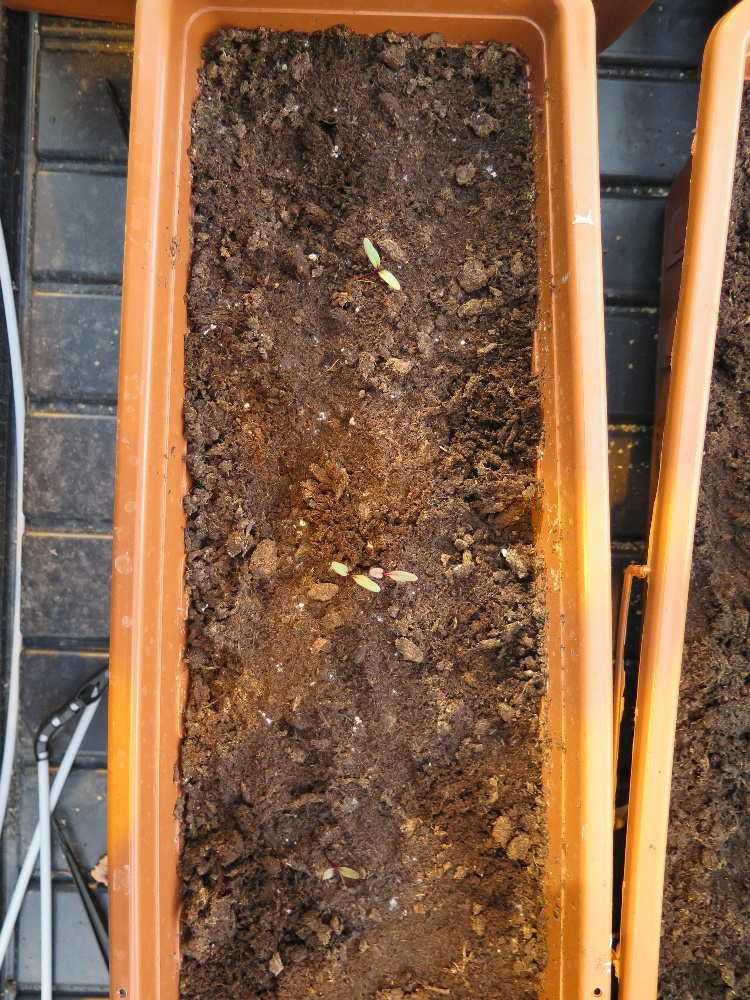crop: (324, 557, 384, 599), (362, 233, 402, 294), (367, 557, 423, 591), (320, 862, 360, 882)
